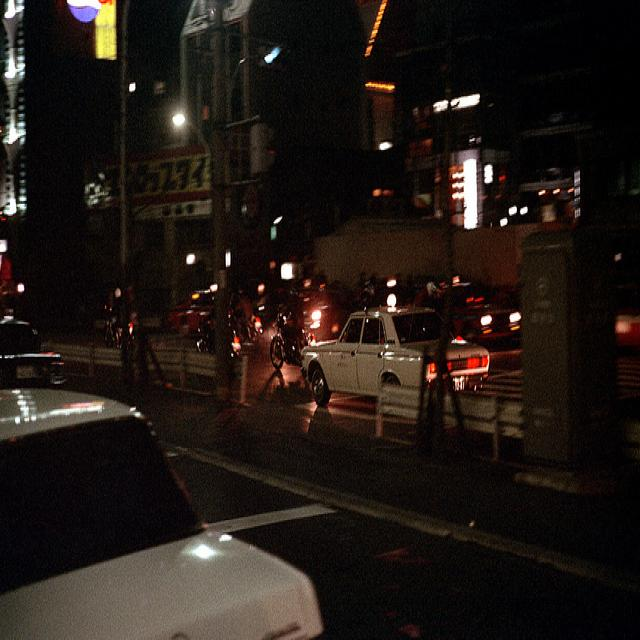Motorbike: (106, 296, 166, 385), (257, 306, 322, 368)
